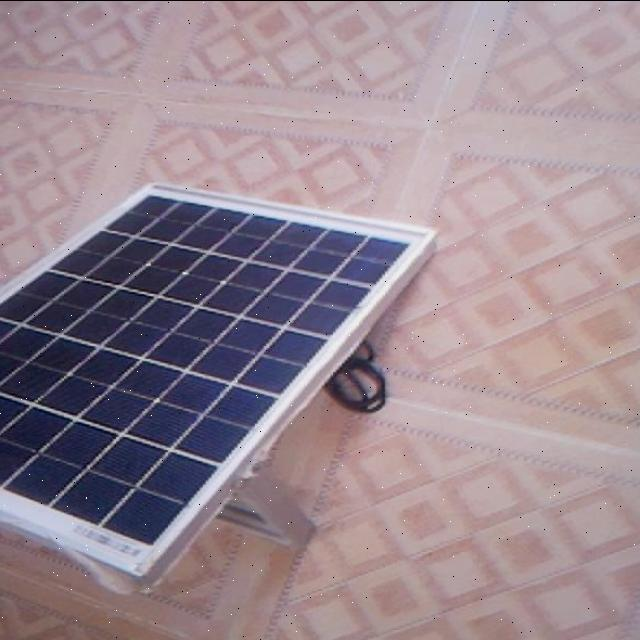Normal Solar Panel: (0, 186, 434, 584)
